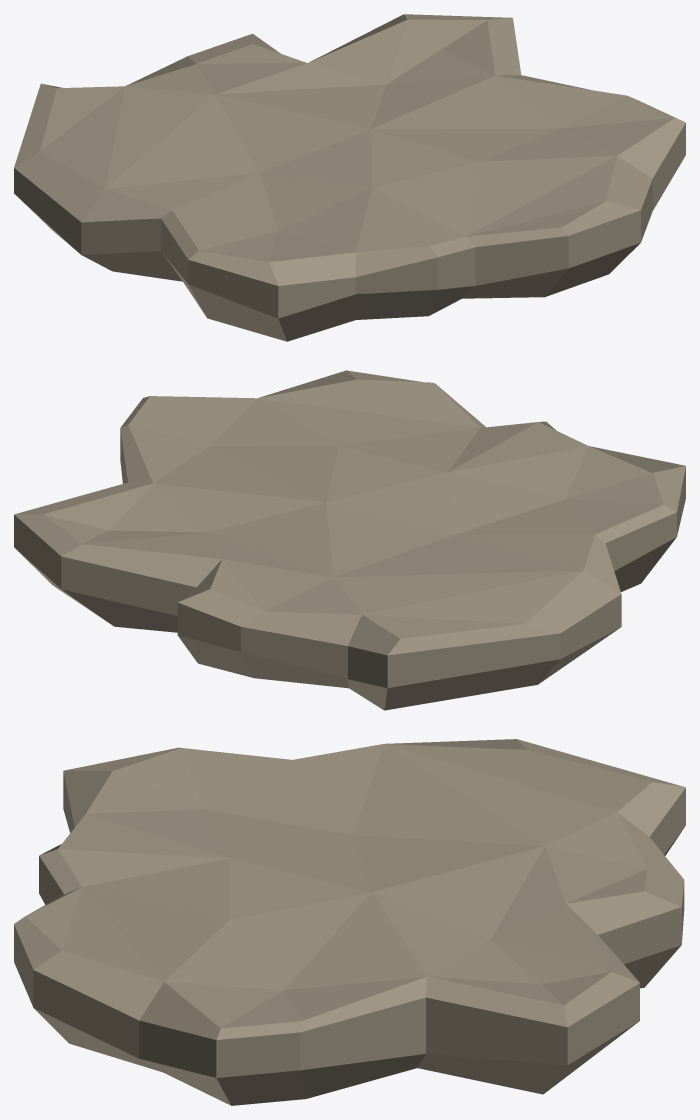
File: SM_Terrain_Ice_01.fbx
3 views of the same model, one above another, from view 1: azimuth 30°, elevation 25°; view 2: azimuth 150°, elevation 25°; view 3: azimuth 270°, elevation 25° (orthographic). The views are drawn at different scales.
Parts seen in each view (by area): view 1: SM_Terrain_Ice_01; view 2: SM_Terrain_Ice_01; view 3: SM_Terrain_Ice_01.
Part boxes in pixels (x1,y1,x2,y2): SM_Terrain_Ice_01: (14, 14, 685, 341); SM_Terrain_Ice_01: (14, 370, 685, 710); SM_Terrain_Ice_01: (14, 739, 685, 1105).
Size of the model in its own units: 237 by 32.02 by 218.
Materials: 1 (1 with a texture image).
